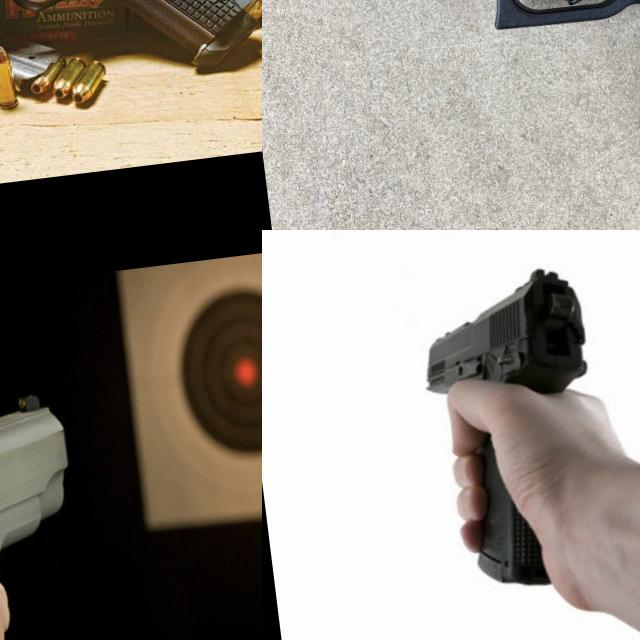handgun: (262, 0, 640, 230), (0, 387, 156, 640), (0, 0, 262, 143), (408, 258, 598, 416)
